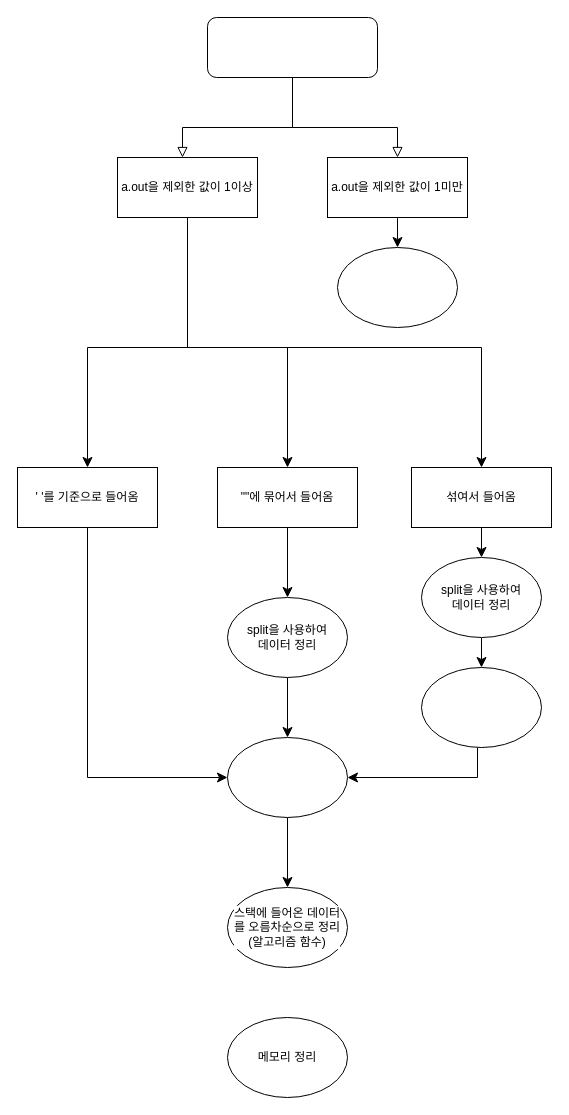
The diagram is 569 pixels wide and 1115 high, and some of its shapes have lost their labels. Here are the shapes that lost their labels. From the top down, the box of each, then its label:
(206, 16, 378, 78): push-swap 인자값을 받아옴
(336, 246, 458, 328): return 0
(420, 666, 542, 748): ""과 ' '을 기준으로 들어온 데이터와 병합
(226, 736, 348, 818): atoi를 사용하여 스택에 데이터를 저장
